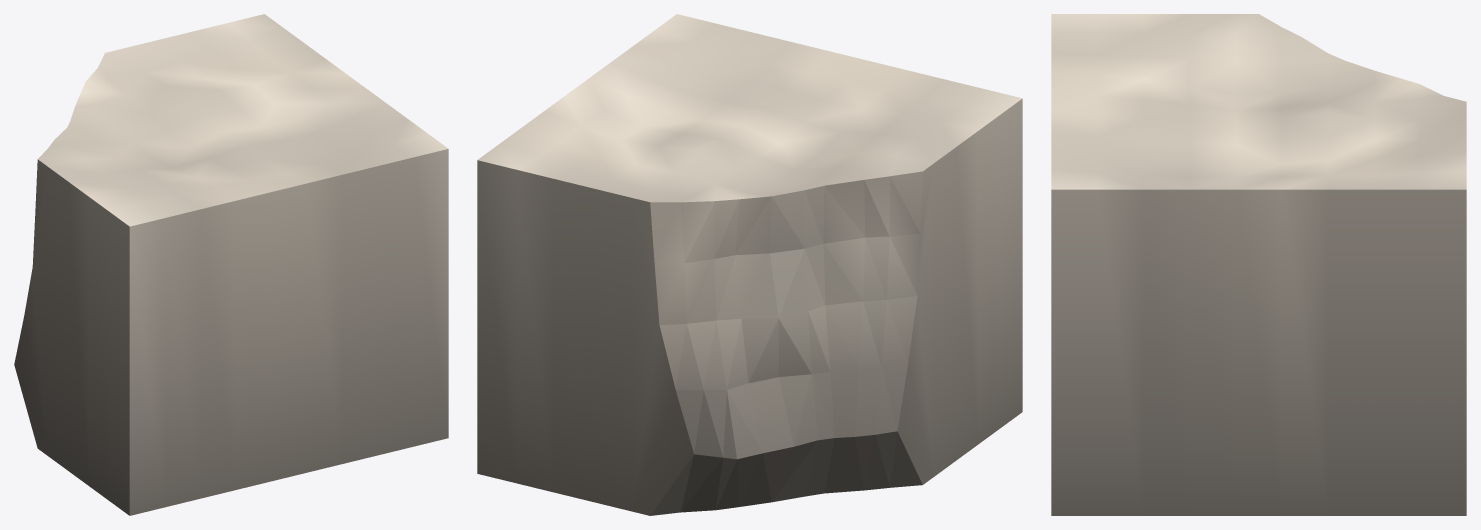
File: SM_VKI_Rock_Cave_CCCO_B.fbx
3 views of the same model, side by side, from view 1: azimuth 30°, elevation 25°; view 2: azimuth 150°, elevation 25°; view 3: azimuth 270°, elevation 25° (orthographic). The views are drawn at different scales.
Parts seen in each view (by area): view 1: SM_VKI_Rock_Cave_CCCO_B.001; view 2: SM_VKI_Rock_Cave_CCCO_B.001; view 3: SM_VKI_Rock_Cave_CCCO_B.001.
Part boxes in pixels (x1,y1,x2,y2): SM_VKI_Rock_Cave_CCCO_B.001: (14,14,448,515); SM_VKI_Rock_Cave_CCCO_B.001: (477,14,1022,515); SM_VKI_Rock_Cave_CCCO_B.001: (1051,14,1466,515).
Size of the model in its own units: 1.5 by 1.3 by 1.5.
